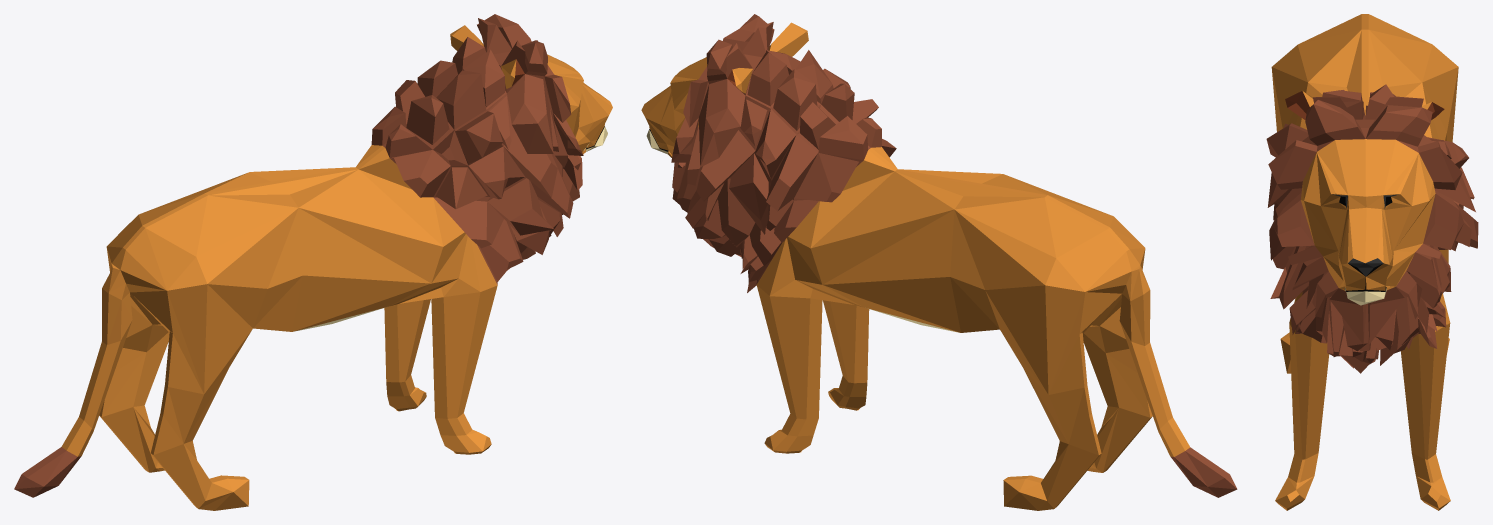
Rendered from lilion.fbx.
The picture shows the model from 3 angles, left to right: view 1: azimuth 30°, elevation 25°; view 2: azimuth 150°, elevation 25°; view 3: azimuth 270°, elevation 25°; orthographic projection. The views are drawn at different scales.
Parts seen in each view (by area): view 1: lion; view 2: lion; view 3: lion.
Part boxes in pixels (x1,y1,x2,y2): lion: (14, 14, 612, 510); lion: (641, 14, 1237, 510); lion: (1266, 14, 1478, 510).
Bounding box in the file's own units: 467 × 286 × 123.
